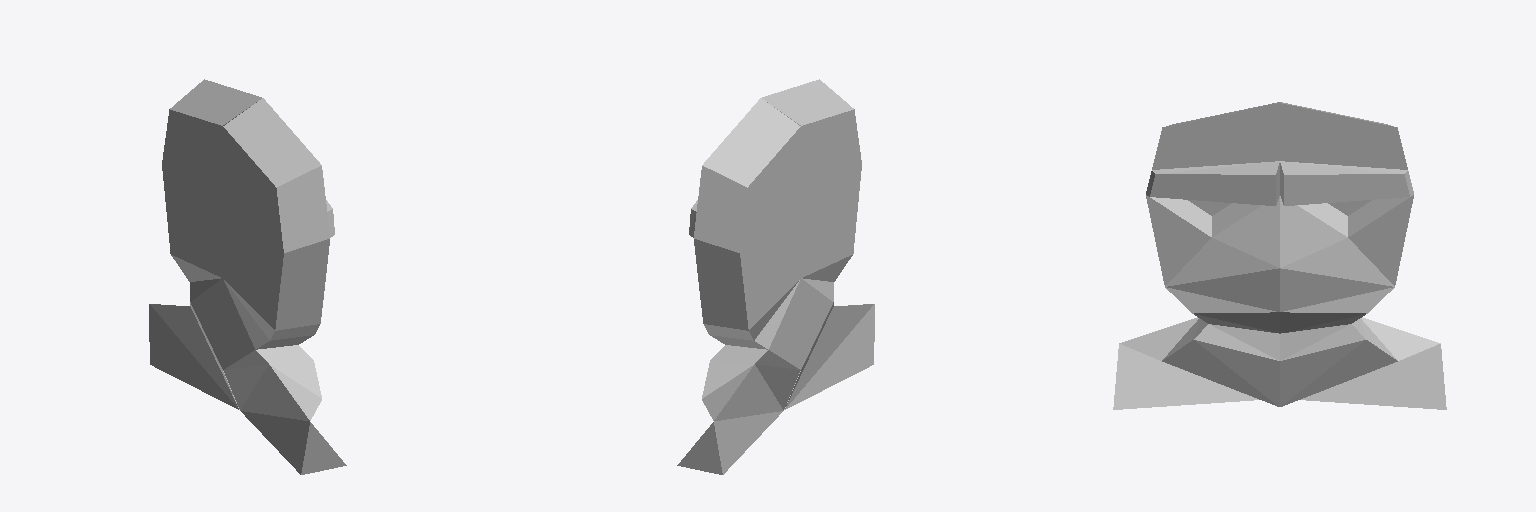
The model's file is static_forward_5.obj.
3 views of the same model, side by side, from view 1: azimuth 30°, elevation 25°; view 2: azimuth 150°, elevation 25°; view 3: azimuth 270°, elevation 25° (orthographic).
Parts seen in each view (by area): view 1: Cube_Cube.009; view 2: Cube_Cube.009; view 3: Cube_Cube.009.
Part boxes in pixels (x1,y1,x2,y2): Cube_Cube.009: (149, 79, 346, 474); Cube_Cube.009: (677, 79, 874, 474); Cube_Cube.009: (1113, 102, 1446, 409).
Bounding box in the file's own units: 2.27 × 10.28 × 9.93.